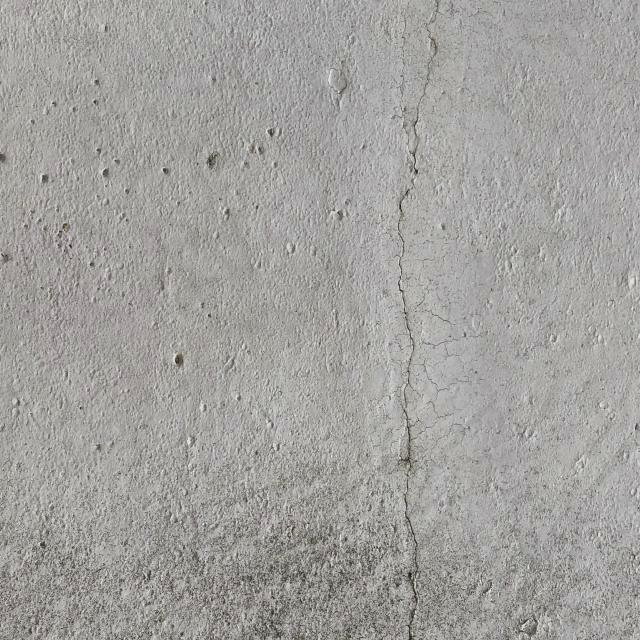SurfaceCrack: (348, 0, 472, 639)
